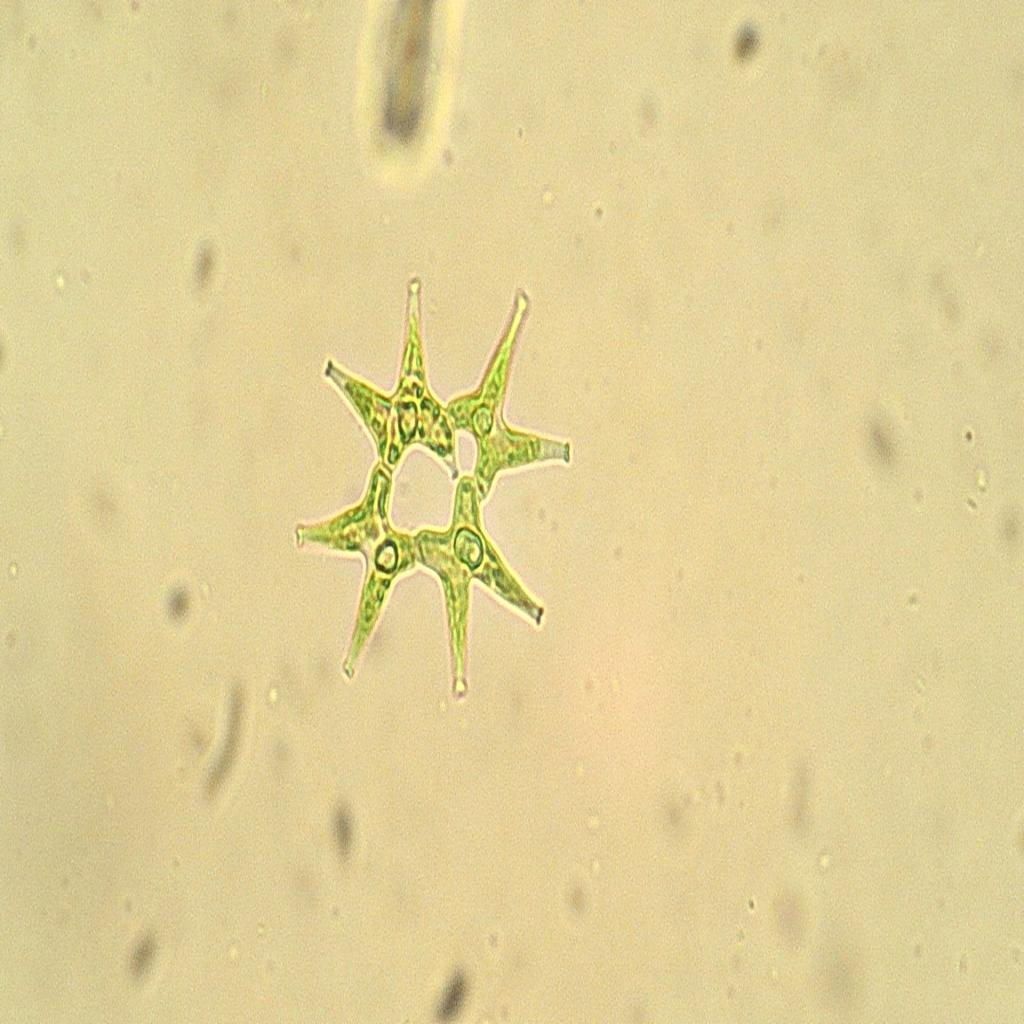Pediastrum_75FO: (278, 258, 593, 722)
